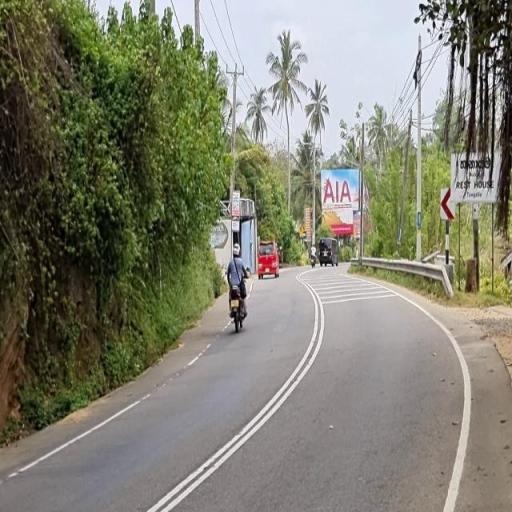double_white_line: (142, 278, 325, 510)
